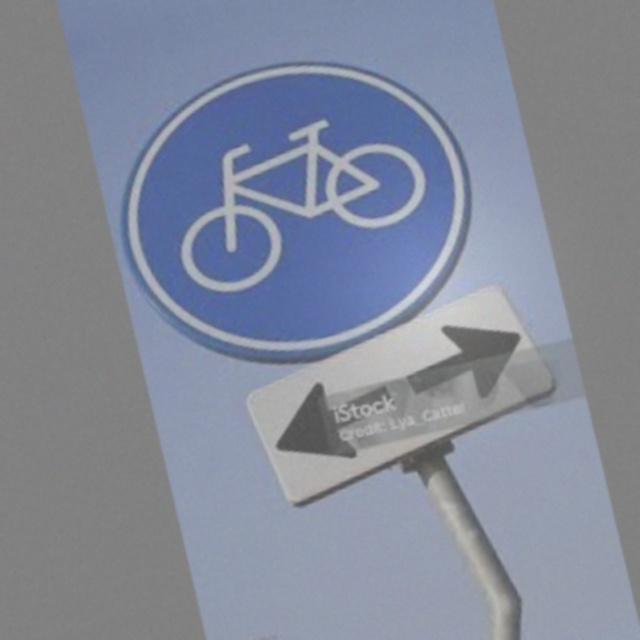Compulsory_Cycle_Track: (99, 26, 498, 358)
